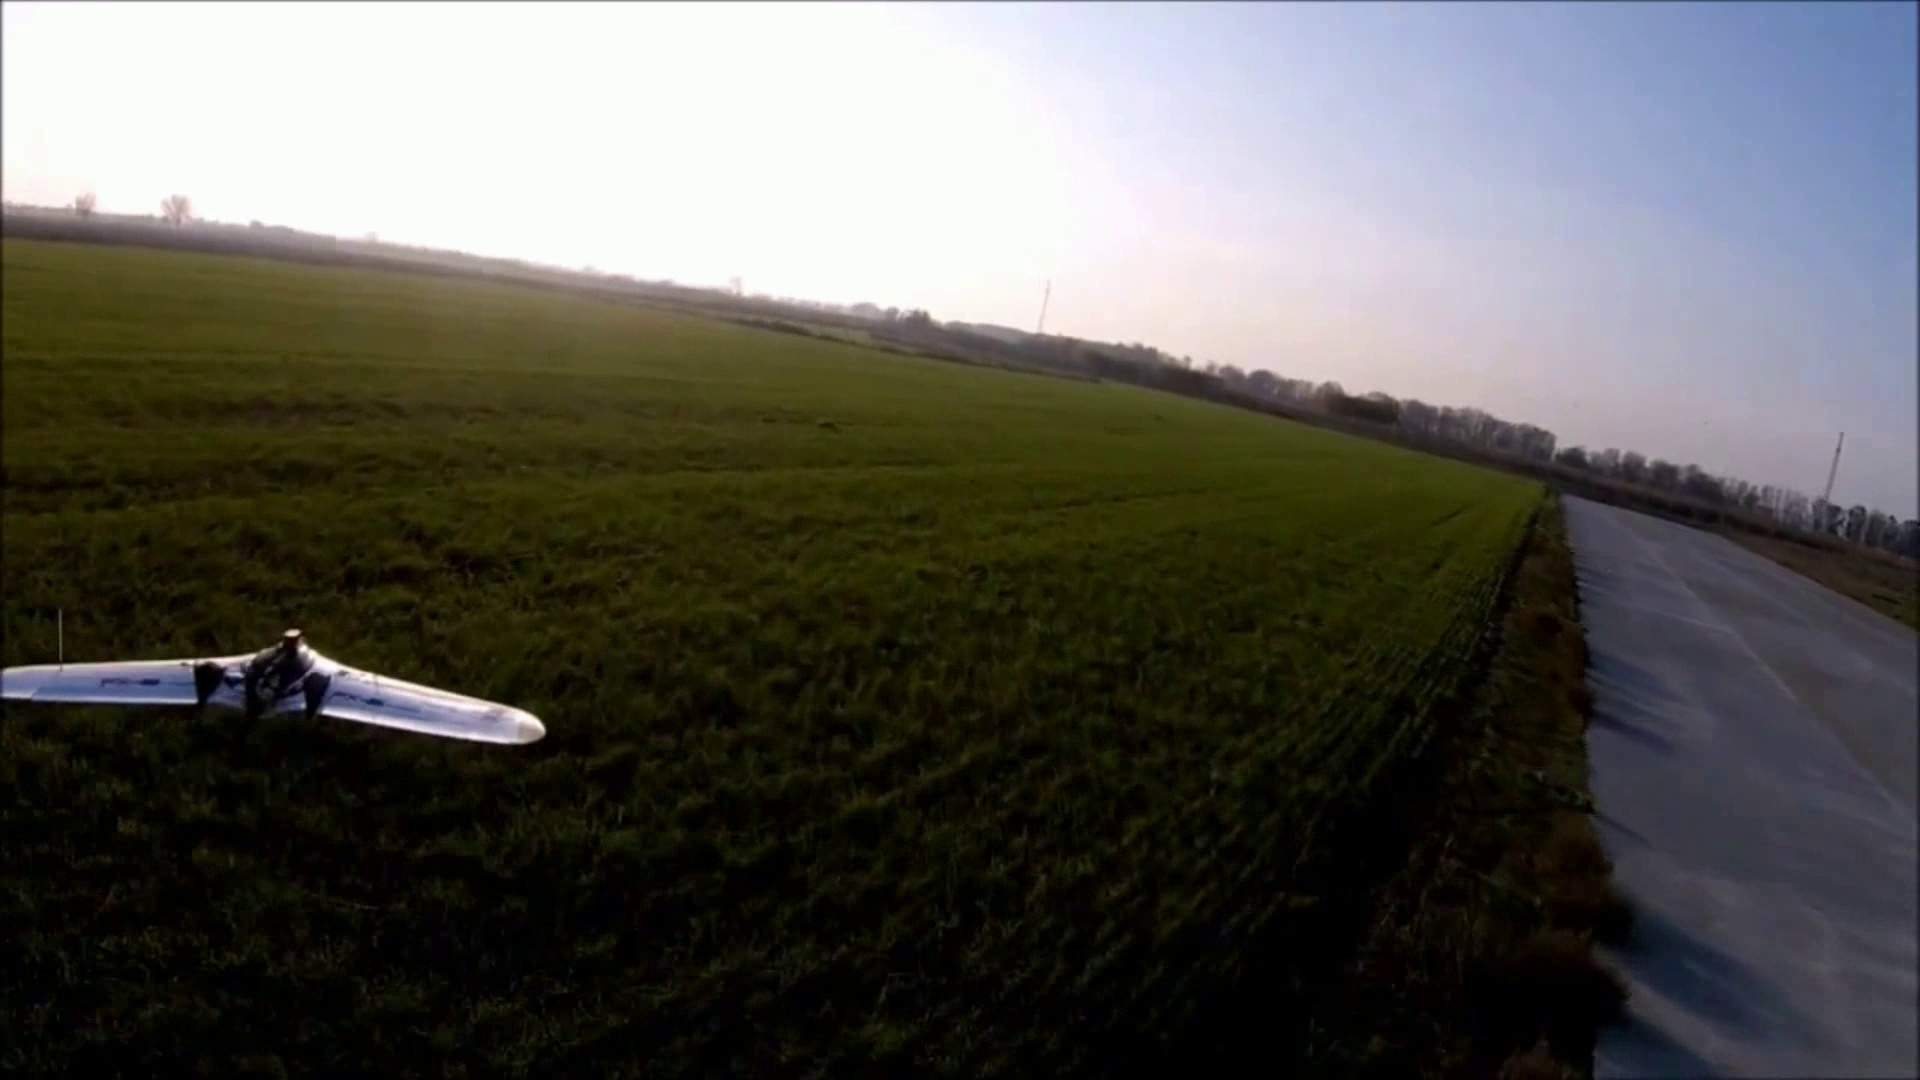airplane: (0, 633, 549, 746)
